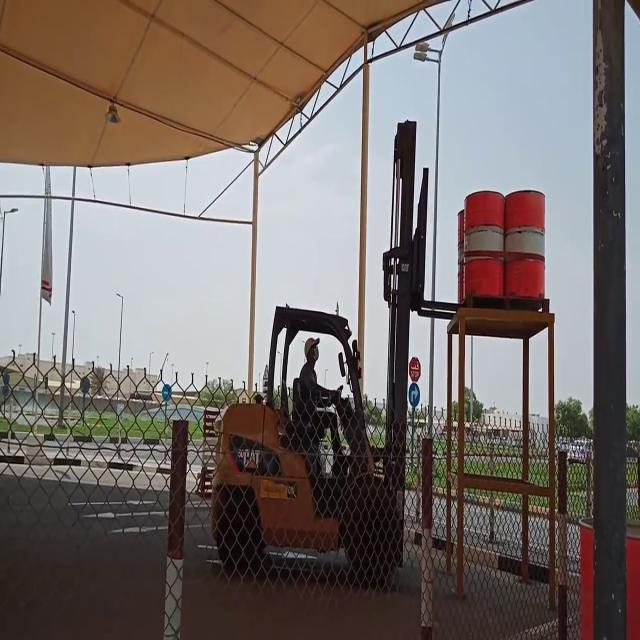forklift: (222, 302, 398, 580)
